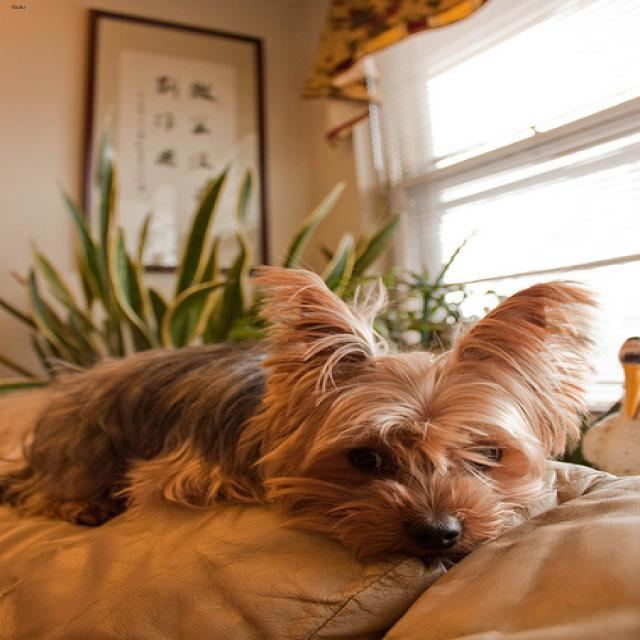dog-yorkshire_terrier: (2, 261, 625, 581)
